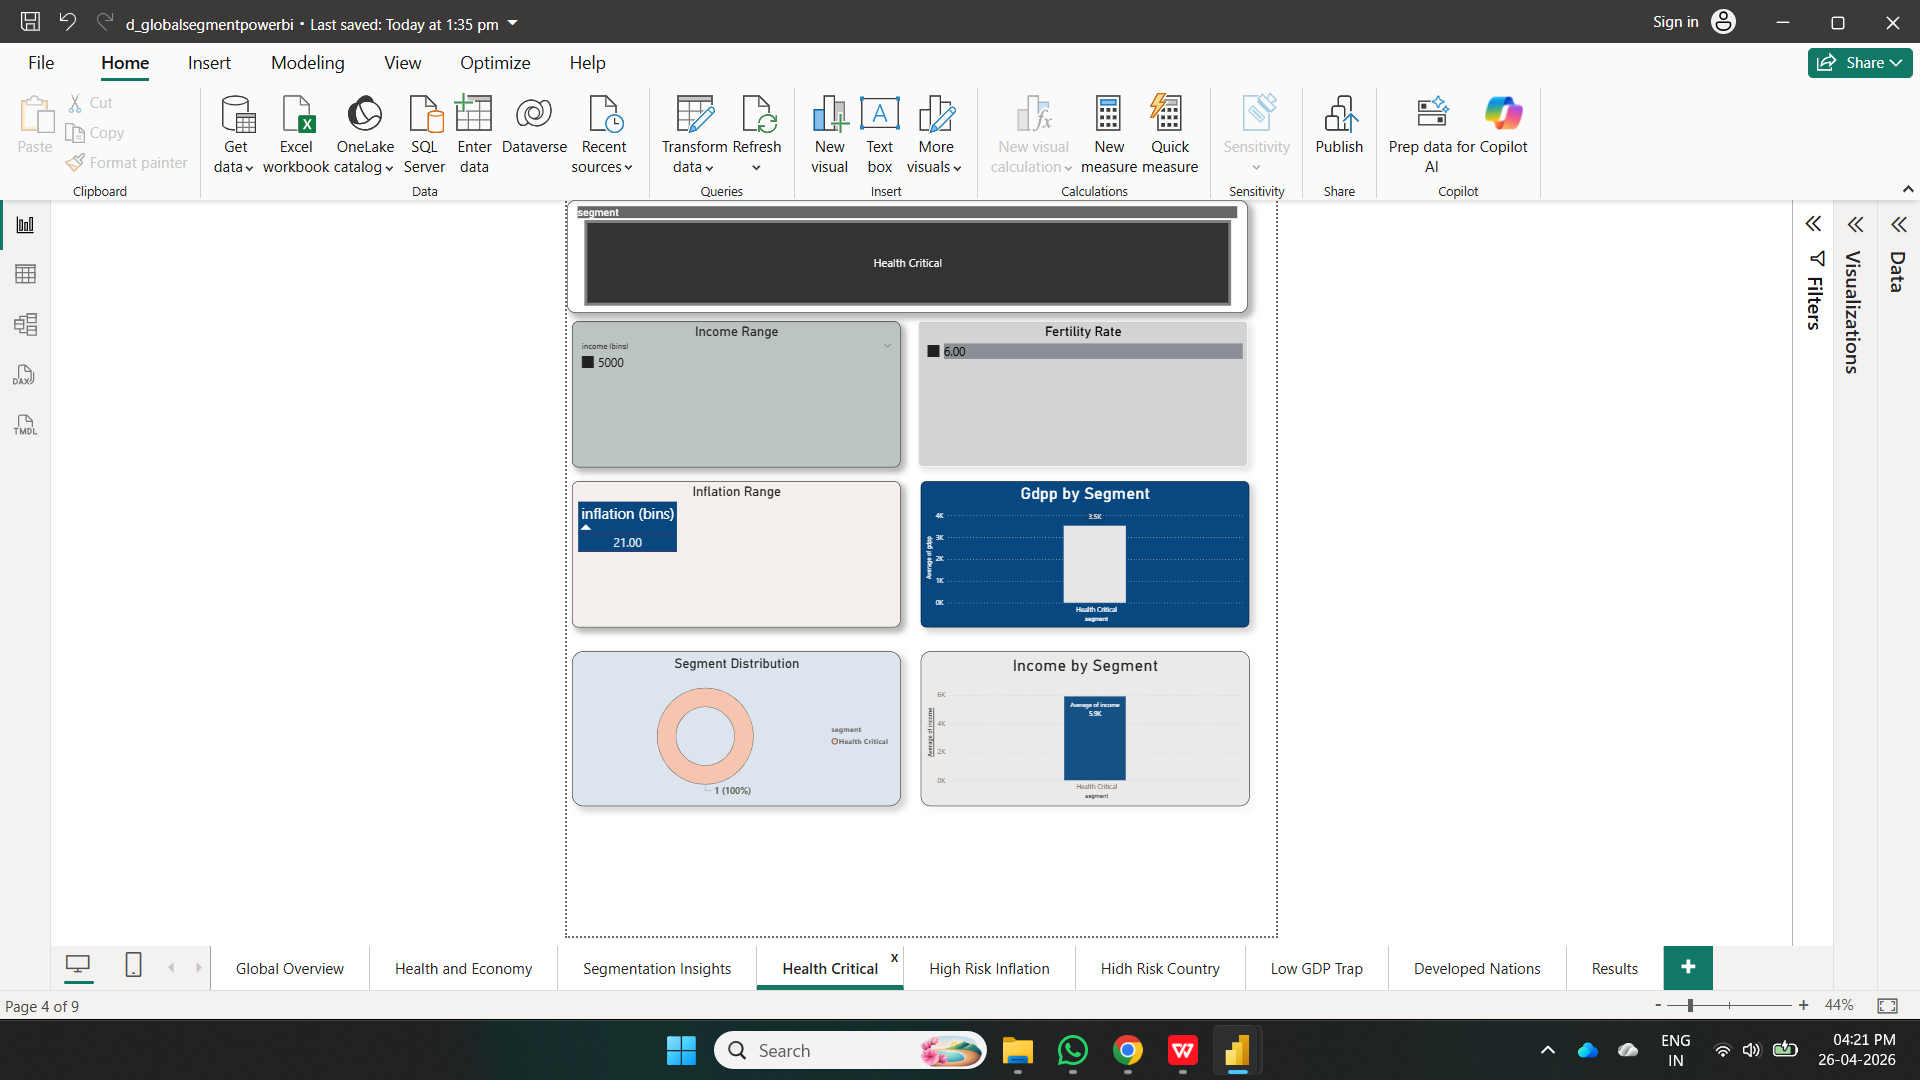

The dashboard page shown, as its layout file describes it:
{"tool":"powerbi","page":{"name":"Health Critical","canvas":[1280,1330],"ordinal":3},"visuals":[{"type":"slicer","fields":{"Values":["country_clean.segment"]},"box":[0,0,1230,203.8],"z":0},{"type":"slicer","title":"Income Range","fields":{"Values":["country_clean.income (bins)"]},"box":[8.8,218.8,593.8,263.8],"z":1000},{"type":"slicer","title":"Fertility Rate","fields":{"Values":["country_clean.total_fer (bins)"]},"box":[635,220,595,262.5],"z":2000},{"type":"tableEx","title":"Inflation Range","fields":{"Values":["country_clean.inflation (bins)"]},"box":[10,507.5,593.8,263.8],"z":3000},{"type":"clusteredColumnChart","title":"Gdpp by Segment","fields":{"Category":["country_clean.segment"],"Y":["Avg(country_clean.gdpp)"]},"box":[640,507.5,593.8,263.8],"z":4000},{"type":"donutChart","title":"Segment Distribution","fields":{"Category":["country_clean.segment"],"Y":["CountNonNull(country_clean.country)"]},"box":[9,815.4,594.1,280.1],"z":5000},{"type":"clusteredColumnChart","title":"Income by Segment","fields":{"Category":["country_clean.segment"],"Y":["Avg(country_clean.income)"]},"box":[639.3,815.4,594.1,280.1],"z":6000}]}

Visuals, with their boxes on the page's 1280x1330 design canvas (x1, y1, x2, y2). These are canvas units, not pixel positions in the 1920x1080 screenshot, which may show the page scaled, cropped or inside an application window:
slicer - country_clean.segment: (0,0,1230,204)
"Income Range" slicer: (9,219,603,483)
"Fertility Rate" slicer: (635,220,1230,482)
"Inflation Range" tableEx: (10,508,604,771)
"Gdpp by Segment" clusteredColumnChart: (640,508,1234,771)
"Segment Distribution" donutChart: (9,815,603,1096)
"Income by Segment" clusteredColumnChart: (639,815,1233,1096)
